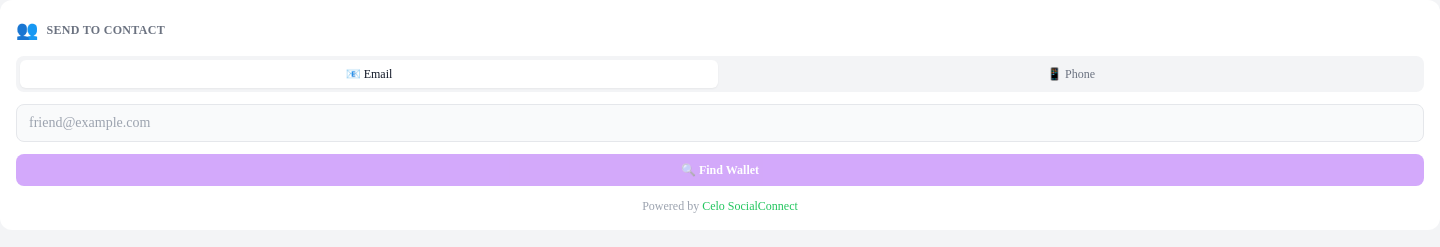
Scenario: SocialContactPicker › toggles between email and phone input types
Click phone button
Click the button "📱 Phone": click(1071, 74) [722,60,1420,88]
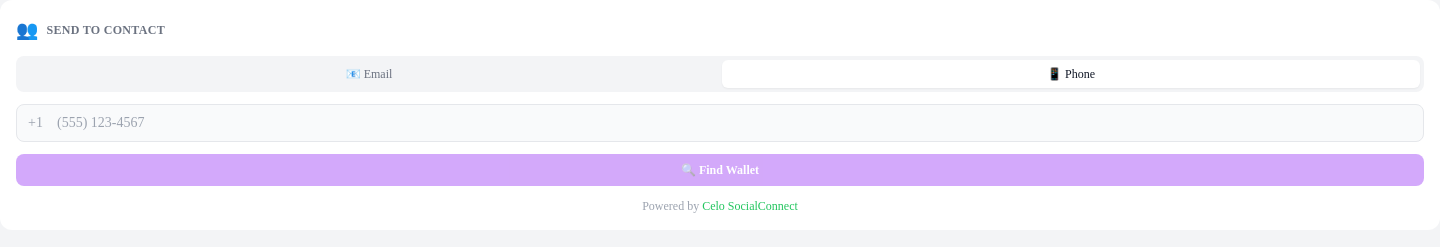
Expected: the field with placeholder "(555) 123-4567" is shown, [16,104,1424,142]
Click email button
Click the button "📧 Email": click(369, 74) [20,60,718,88]
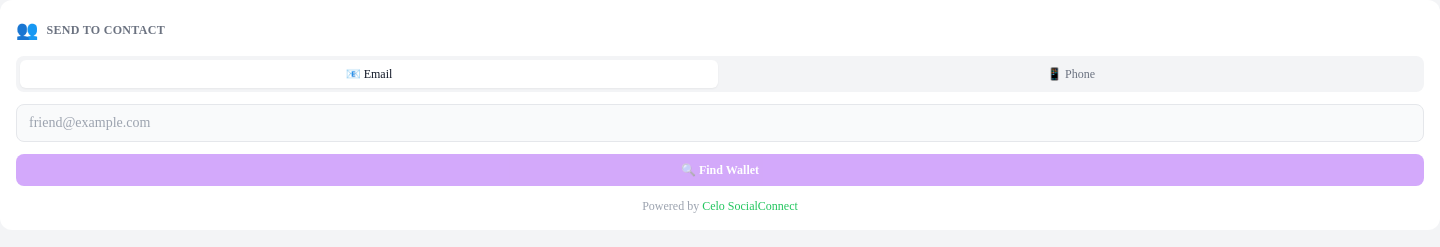
Expected: the field with placeholder "friend@example.com" is shown, [16,104,1424,142]
